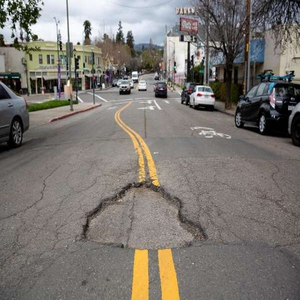pothole: (83, 180, 209, 250)
